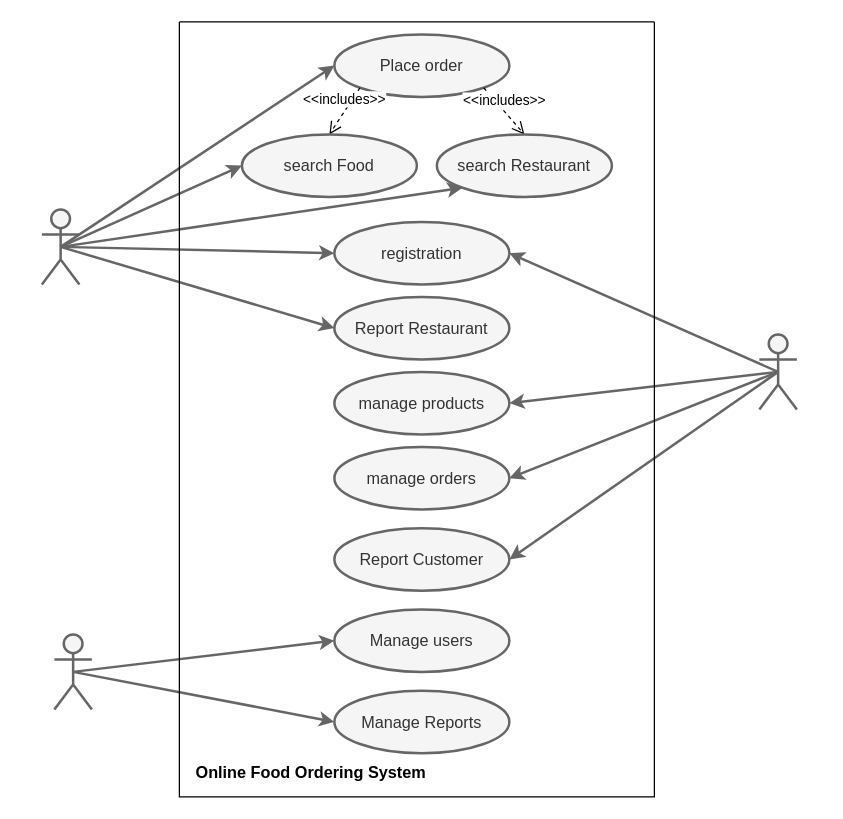
The diagram is 843 pixels wide and 819 high, and some of its shapes have lost their labels. Each missing label, with the box of its shape:
Admin: (52, 632, 92, 710)
Customers: (40, 208, 80, 285)
Rest_owner: (758, 332, 798, 410)
